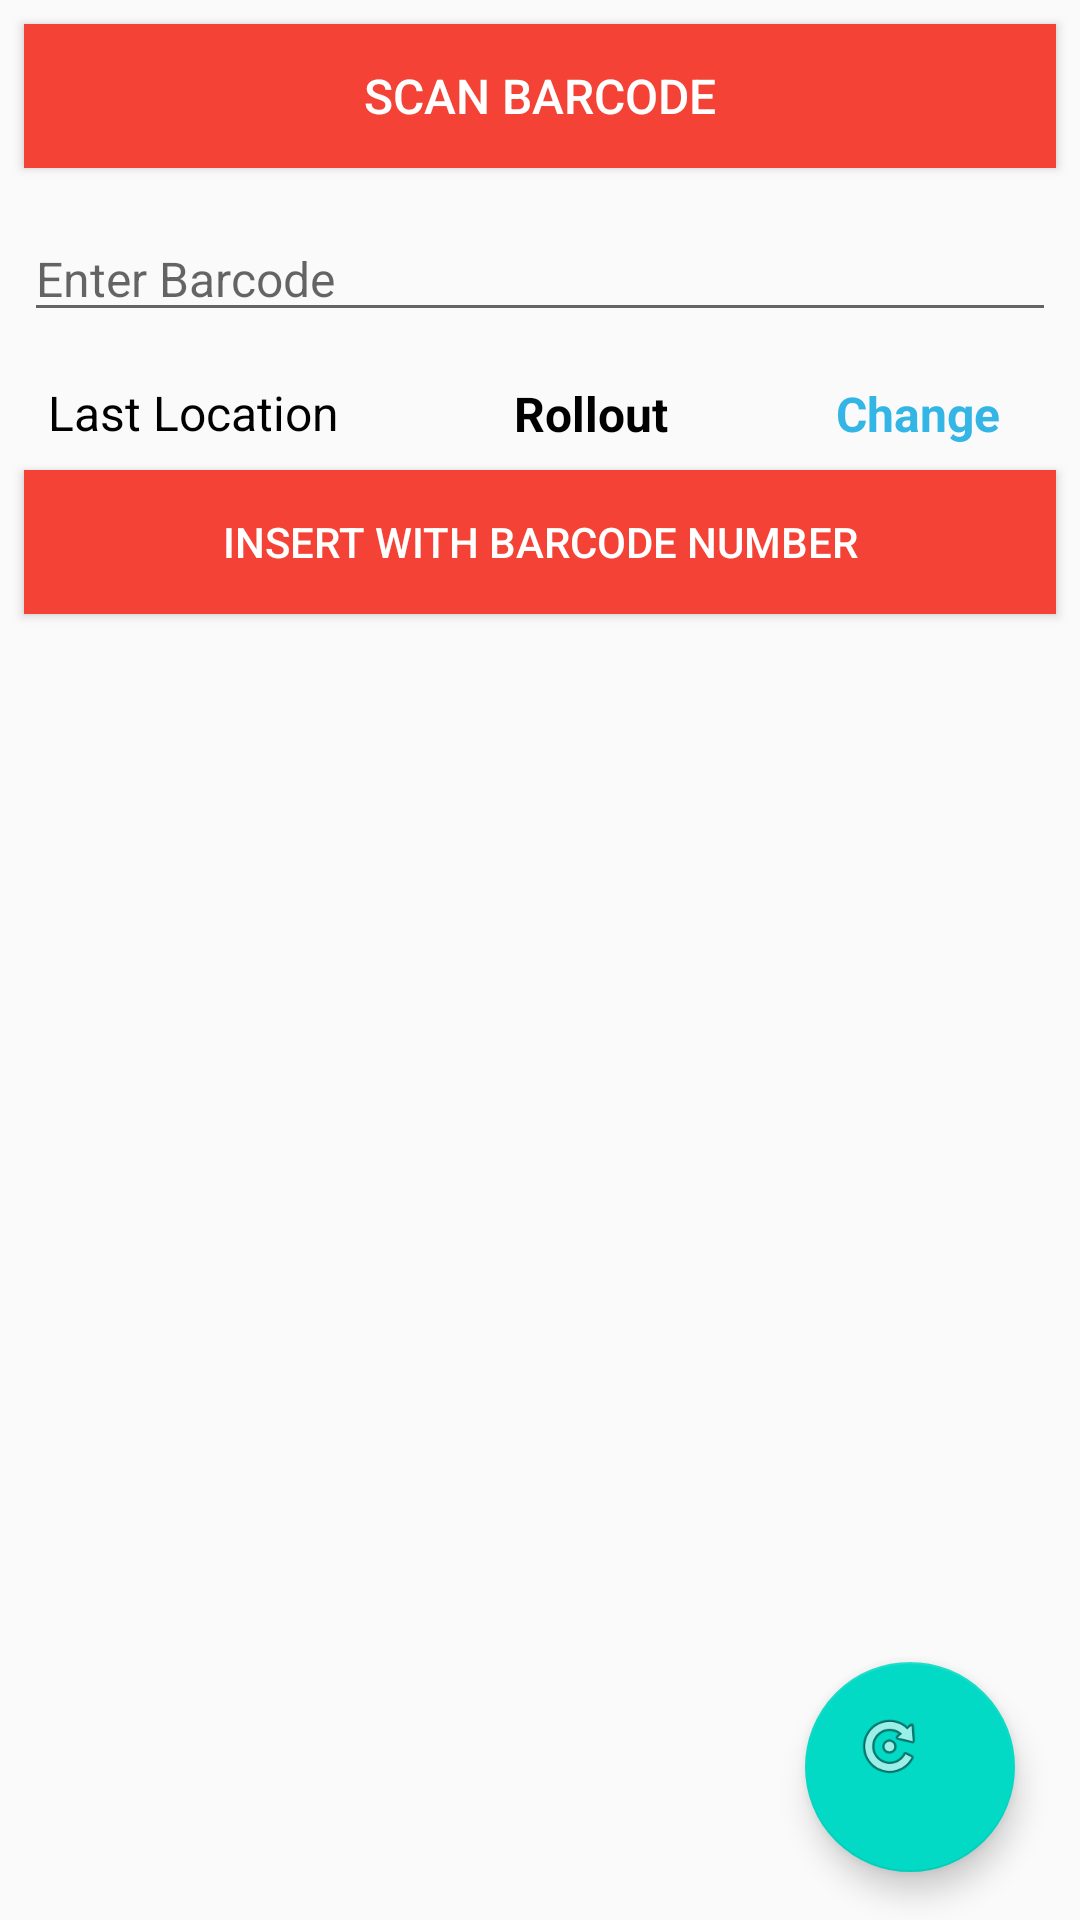

Icons on this 1080px x 1920px Android screen, each with the point to tap as (x=x, y=y):
rotate: (x=910, y=1767)
